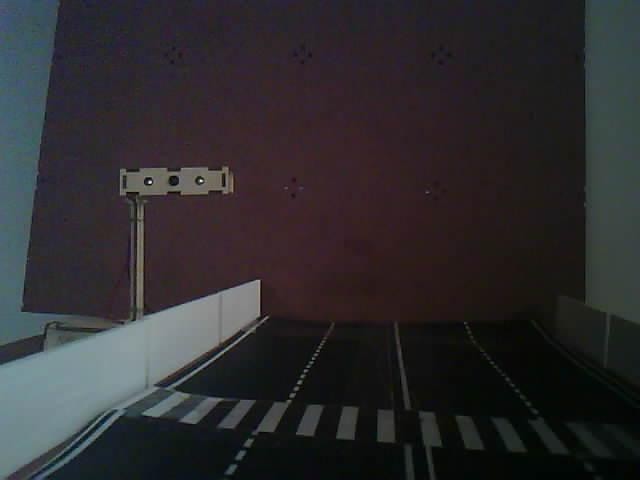crosswalk: (83, 365, 640, 479)
no: (112, 144, 270, 233)
